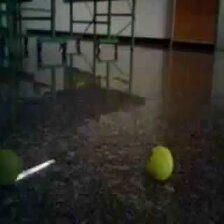tennis: (145, 146, 175, 182), (1, 146, 22, 187)
